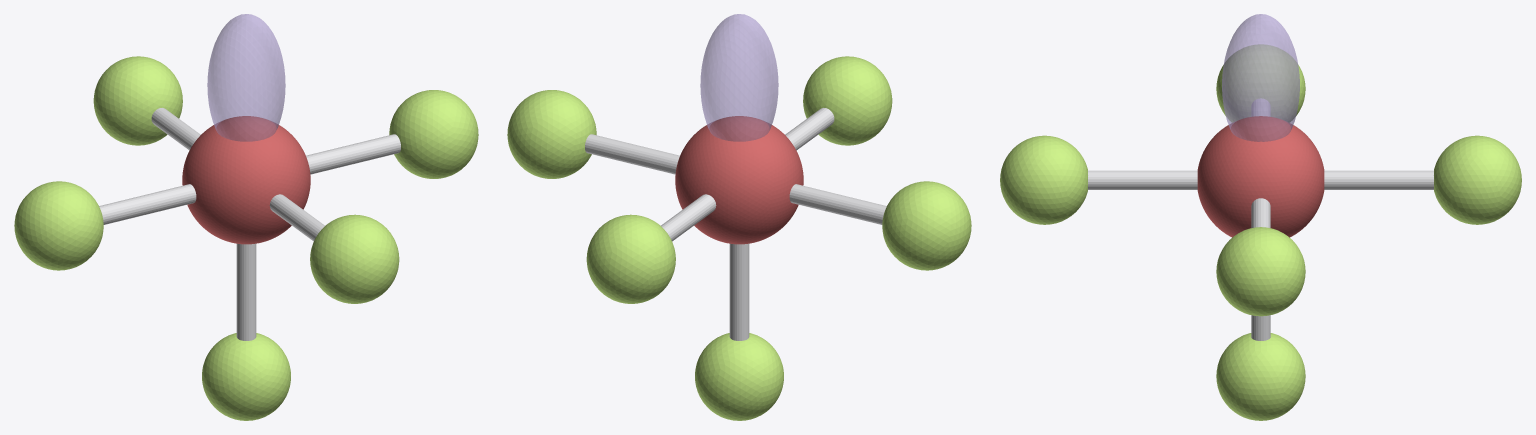
File: BrF5.glb
3 views of the same model, side by side, from view 1: azimuth 30°, elevation 25°; view 2: azimuth 150°, elevation 25°; view 3: azimuth 270°, elevation 25° (orthographic).
Parts seen in each view (by area): view 1: Br_centre, lone_pair_0, F_3, F_4, F_1, F_2, F_5, bond_1, bond_3, bond_2, bond_4, bond_5; view 2: Br_centre, lone_pair_0, F_3, F_5, F_1, F_2, F_4, bond_1, bond_3, bond_2, bond_5, bond_4; view 3: Br_centre, lone_pair_0, F_2, F_4, F_5, F_1, F_3, bond_4, bond_5, bond_2, bond_1.
Part boxes in pixels (box(x1,y1,x2,y2)): Br_centre: box(182, 116, 310, 244); lone_pair_0: box(207, 14, 285, 141); F_3: box(14, 181, 103, 270); F_4: box(310, 214, 399, 303); F_1: box(202, 333, 290, 420); F_2: box(389, 90, 478, 178); F_5: box(93, 56, 182, 145); bond_1: box(236, 243, 256, 340); bond_3: box(99, 184, 196, 224); bond_2: box(306, 134, 400, 174); bond_4: box(269, 194, 324, 241); bond_5: box(151, 108, 200, 150); Br_centre: box(675, 116, 803, 244); lone_pair_0: box(700, 14, 778, 141); F_3: box(882, 181, 971, 270); F_5: box(586, 214, 675, 303); F_1: box(695, 333, 783, 420); F_2: box(507, 90, 596, 178); F_4: box(803, 56, 892, 145); bond_1: box(729, 243, 749, 340); bond_3: box(789, 184, 886, 224); bond_2: box(585, 134, 679, 174); bond_5: box(661, 194, 716, 241); bond_4: box(785, 108, 834, 150); Br_centre: box(1197, 116, 1324, 237); lone_pair_0: box(1222, 14, 1299, 141); F_2: box(1216, 227, 1305, 316); F_4: box(1000, 135, 1087, 224); F_5: box(1434, 135, 1521, 224); F_1: box(1216, 333, 1305, 420); F_3: box(1216, 44, 1305, 122); bond_4: box(1088, 170, 1197, 189); bond_5: box(1324, 170, 1433, 189); bond_2: box(1251, 198, 1270, 227); bond_1: box(1251, 315, 1270, 340).
Size of the model in its own units: 0.374 by 0.317 by 0.374.
